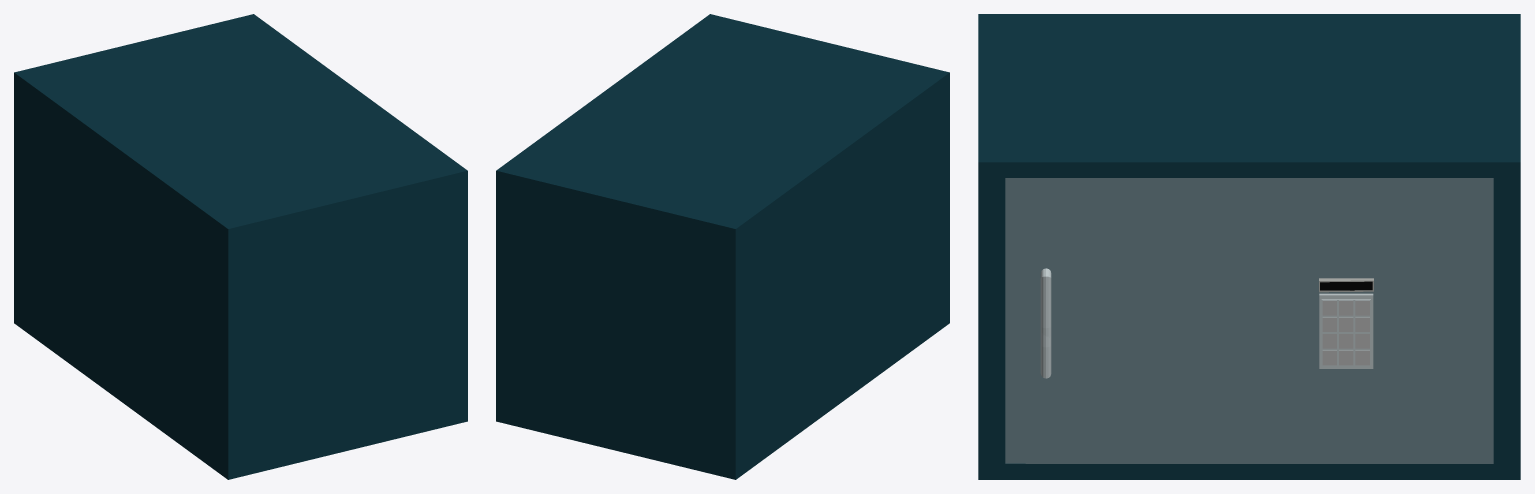
File: Safe.fbx
3 views of the same model, side by side, from view 1: azimuth 30°, elevation 25°; view 2: azimuth 150°, elevation 25°; view 3: azimuth 270°, elevation 25° (orthographic). The views are drawn at different scales.
Visible parts, largest first — view 1: locker body; view 2: locker body; view 3: locker face, locker body, Vert, numpad border, display.
Boxes of the visible parts, box(x1,y1,x2,y2) form: locker body: box(14, 14, 467, 479); locker body: box(496, 14, 949, 479); locker face: box(1005, 178, 1493, 463); locker body: box(978, 14, 1520, 479); Vert: box(1040, 268, 1051, 378); numpad border: box(1319, 293, 1373, 368); display: box(1319, 278, 1373, 292).
Size of the model in its own units: 210 by 200 by 309.
